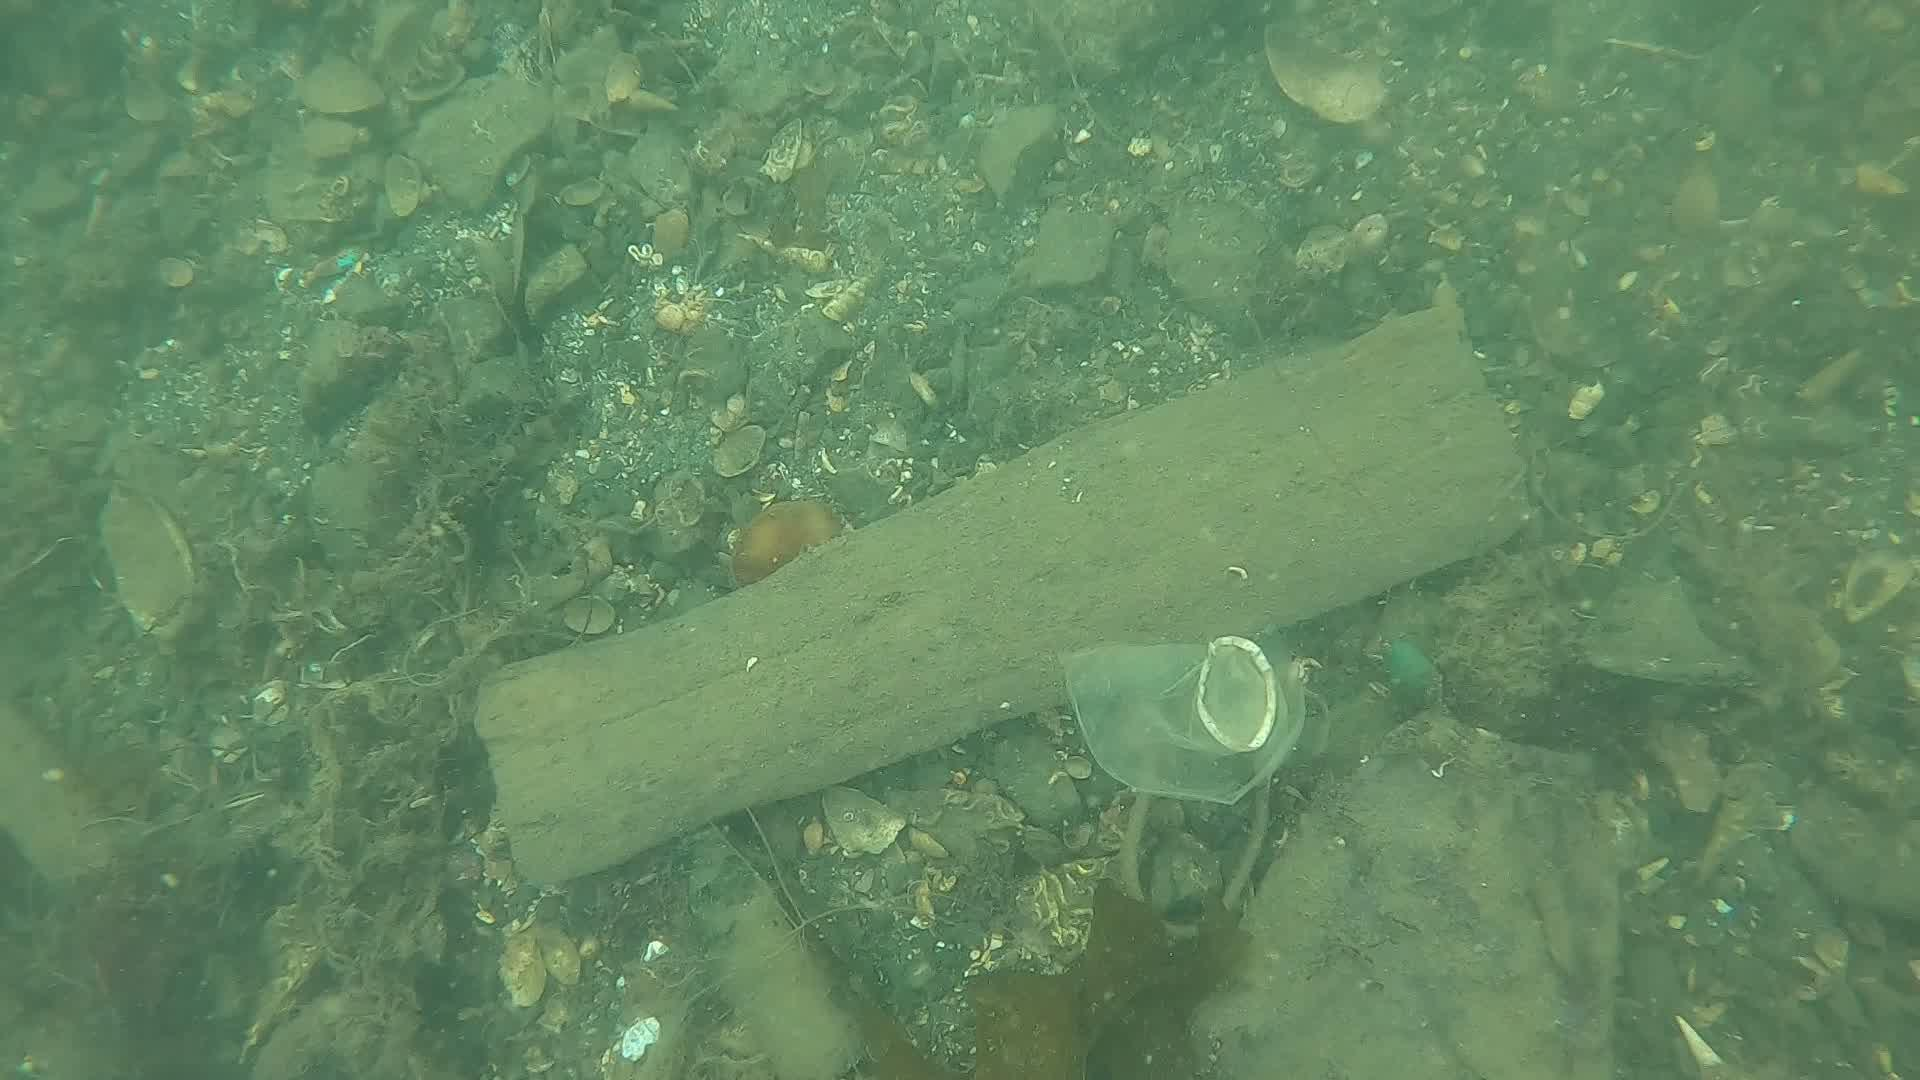wood: (469, 298, 1536, 893)
